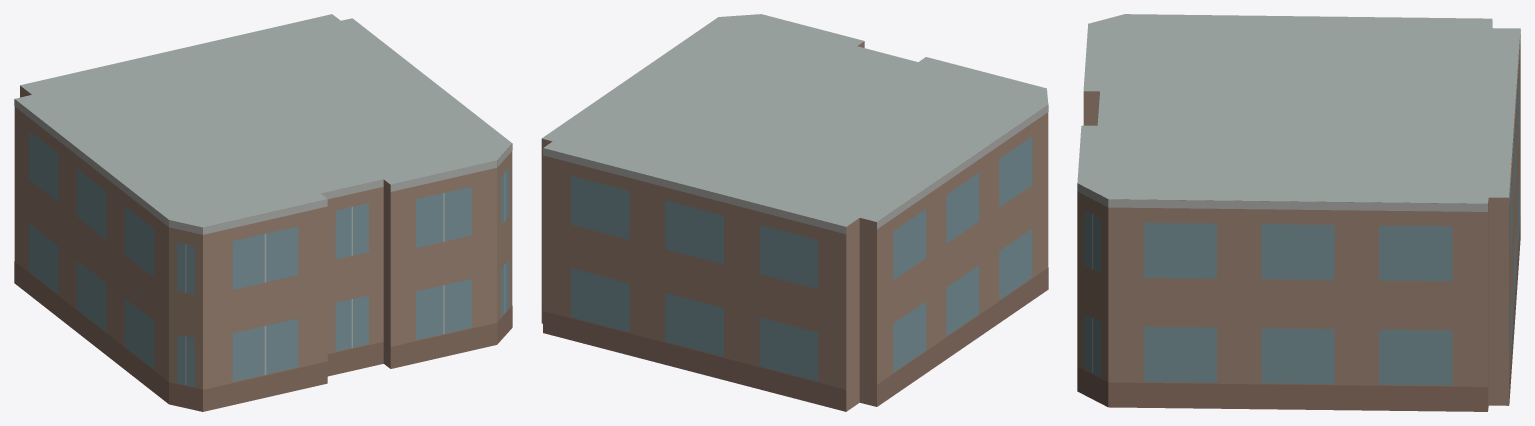
Rendered from survey-upis-32703160.glb.
3 renders of one model, left to right at view 1: azimuth 30°, elevation 25°; view 2: azimuth 150°, elevation 25°; view 3: azimuth 270°, elevation 25°, orthographic. The views are drawn at different scales.
Parts seen in each view (by area): view 1: survey-upis-32703160.tmp; view 2: survey-upis-32703160.tmp; view 3: survey-upis-32703160.tmp.
Boxes of the visible parts, bbox=[...] form: survey-upis-32703160.tmp: bbox=[14, 14, 512, 411]; survey-upis-32703160.tmp: bbox=[541, 14, 1048, 411]; survey-upis-32703160.tmp: bbox=[1077, 14, 1520, 411].
Bounding box in the file's own units: 11.93 × 6.1 × 11.78.
